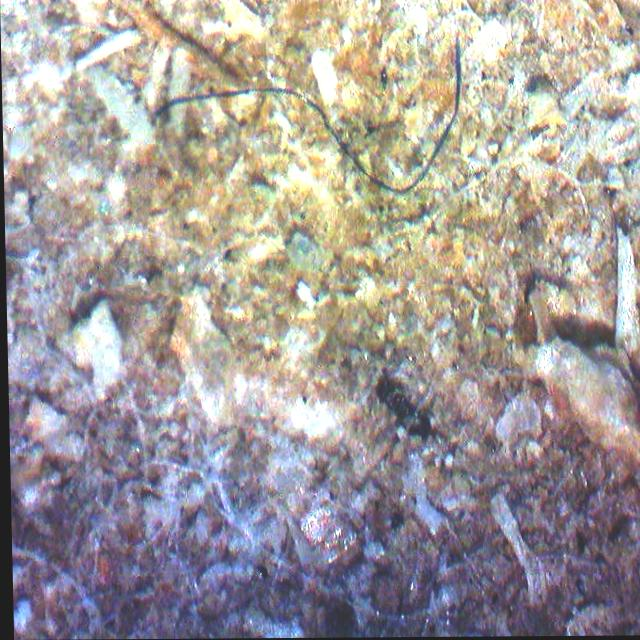microplastic: (153, 39, 464, 204)
